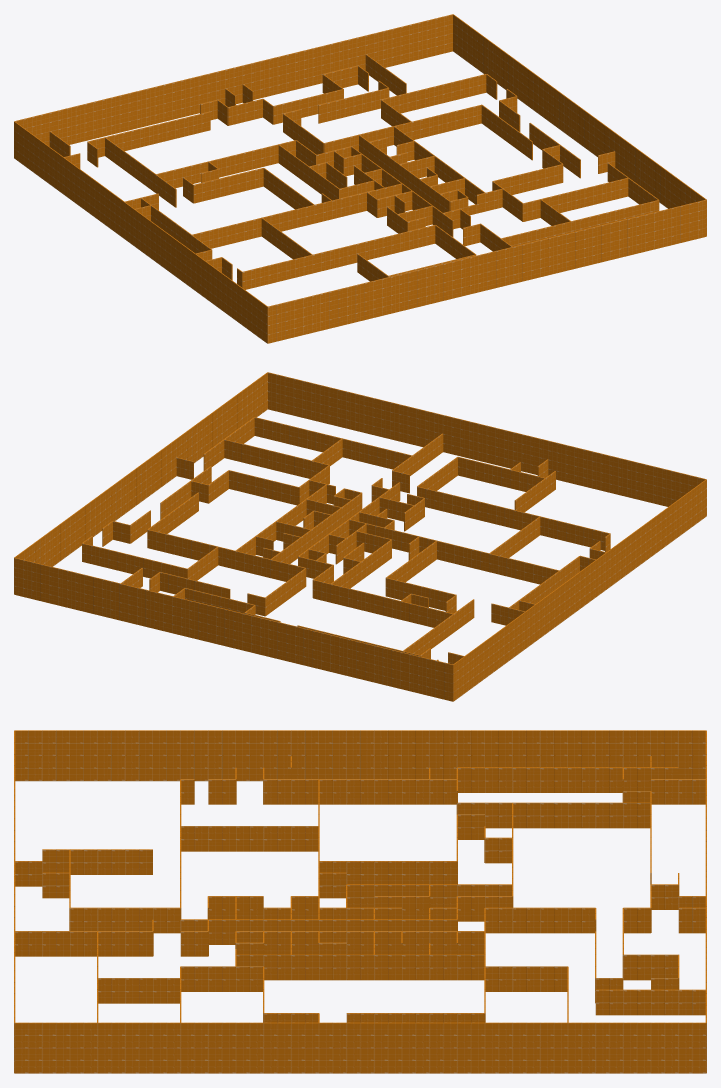
The model's file is maze.fbx.
3 views of the same model, one above another, from view 1: azimuth 30°, elevation 25°; view 2: azimuth 150°, elevation 25°; view 3: azimuth 270°, elevation 25° (orthographic). The views are drawn at different scales.
Visible parts, largest first — view 1: Cube.015; view 2: Cube.015; view 3: Cube.015.
Part boxes in pixels (x1,y1,x2,y2): Cube.015: (14, 14, 706, 343); Cube.015: (14, 372, 706, 701); Cube.015: (14, 730, 706, 1073).
Bounding box in the file's own units: 10020 × 800 × 10020.
